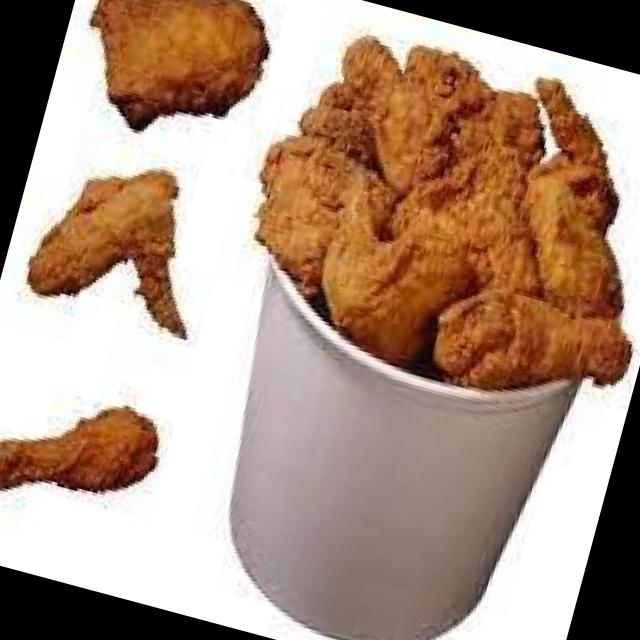Fried Chicken: (253, 37, 630, 394), (25, 170, 182, 335), (89, 0, 270, 131), (0, 406, 159, 495)
